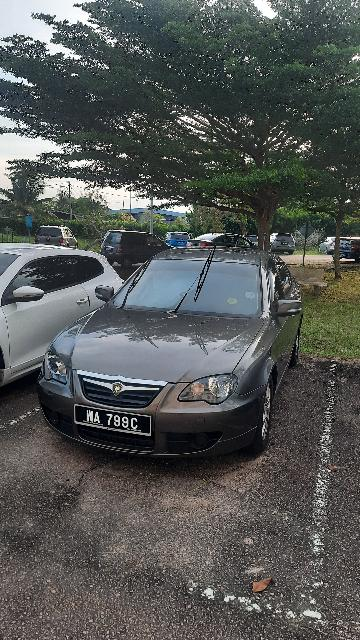License_Plate: (72, 402, 157, 440)
car: (37, 244, 307, 464), (2, 240, 137, 387)
